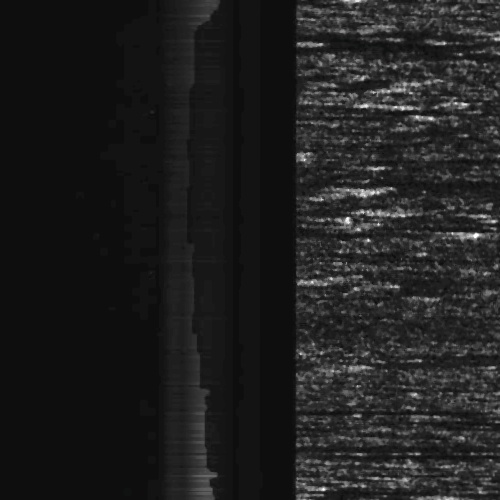object: (398, 224, 500, 235), (446, 404, 500, 413)
shadow: (287, 224, 455, 235), (303, 449, 500, 458), (314, 404, 488, 413), (409, 276, 500, 287), (389, 356, 500, 365), (262, 446, 500, 449), (423, 106, 500, 113), (341, 132, 500, 135)
